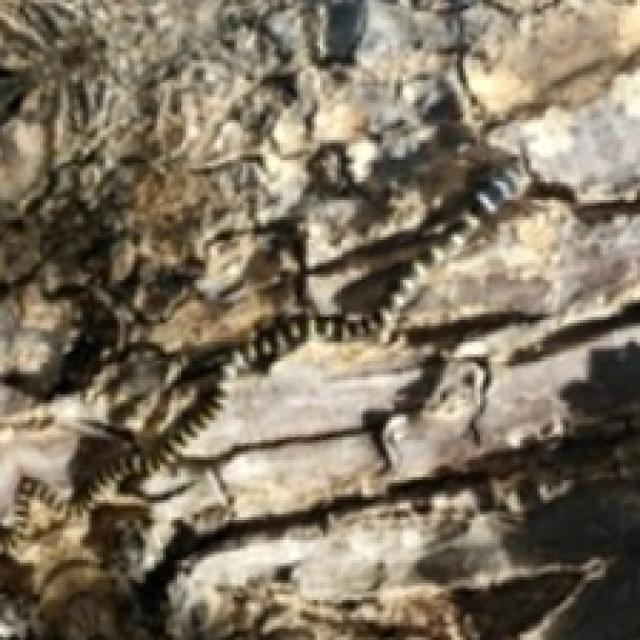paradise tree snake: (0, 123, 514, 549)
